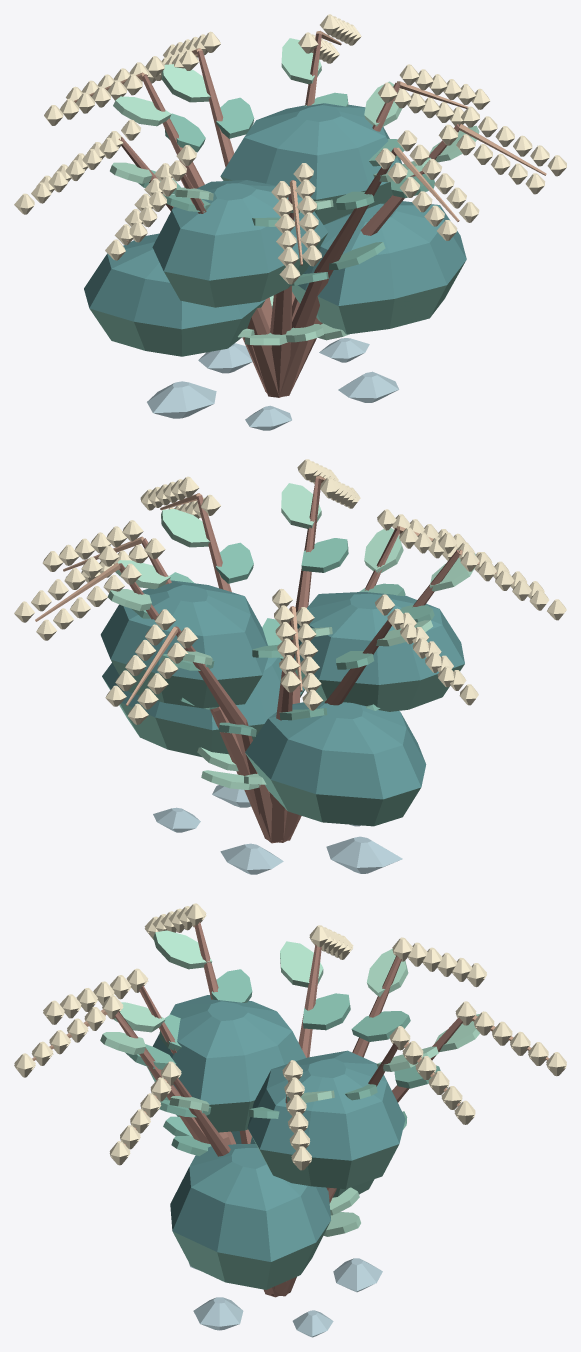
Rendered from lagoon_shrub_oceanspray.glb.
The picture shows the model from 3 angles, top to bottom: view 1: azimuth 30°, elevation 25°; view 2: azimuth 150°, elevation 25°; view 3: azimuth 270°, elevation 25°; orthographic projection. The views are drawn at different scales.
Parts seen in each view (by area): view 1: lagoon_shrub_oceanspray.001; view 2: lagoon_shrub_oceanspray.001; view 3: lagoon_shrub_oceanspray.001.
Boxes of the visible parts, left/top/right/bottom form: lagoon_shrub_oceanspray.001: left=14, top=14, right=566, bottom=430; lagoon_shrub_oceanspray.001: left=14, top=459, right=566, bottom=874; lagoon_shrub_oceanspray.001: left=14, top=903, right=566, bottom=1337.
Size of the model in its own units: 3.72 by 2.46 by 3.77.
